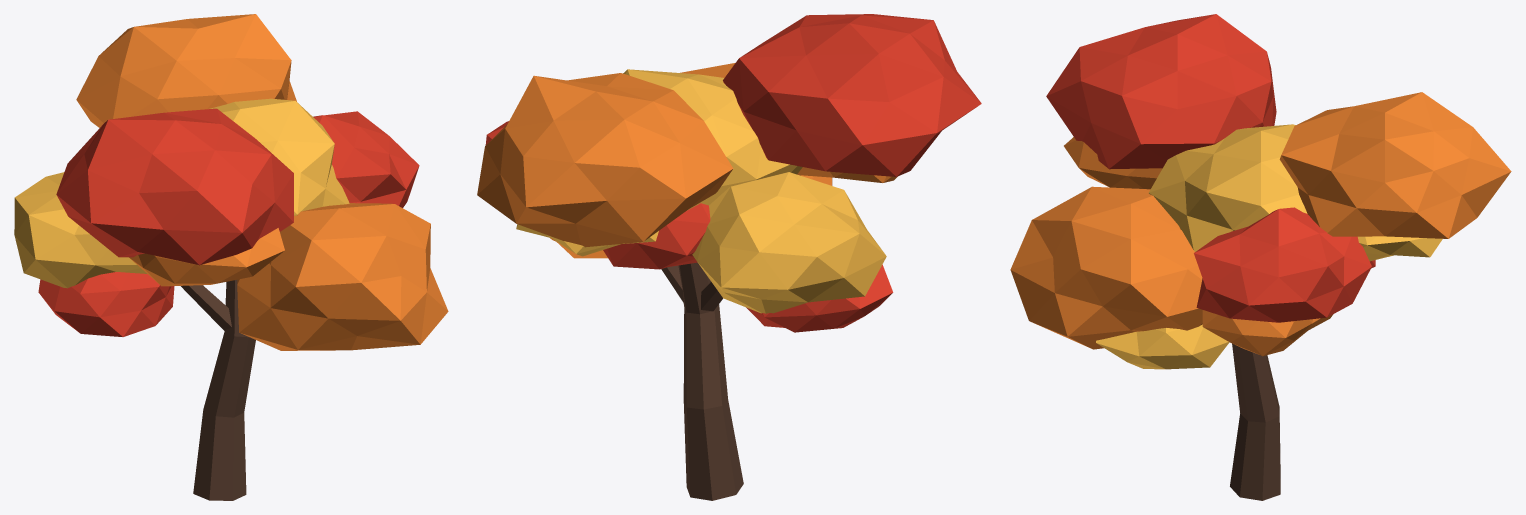
The model's file is maple_b.fbx.
3 views of the same model, side by side, from view 1: azimuth 30°, elevation 25°; view 2: azimuth 150°, elevation 25°; view 3: azimuth 270°, elevation 25° (orthographic). The views are drawn at different scales.
Parts seen in each view (by area): view 1: B_Maple_Orange, B_Maple_Red, B_Maple_Gold, B_Maple_Bark; view 2: B_Maple_Red, B_Maple_Orange, B_Maple_Gold, B_Maple_Bark; view 3: B_Maple_Orange, B_Maple_Red, B_Maple_Gold, B_Maple_Bark.
Boxes of the visible parts, x1=… form: B_Maple_Orange: x1=76, y1=14, x2=448, y2=350; B_Maple_Red: x1=38, y1=108, x2=419, y2=336; B_Maple_Gold: x1=14, y1=98, x2=349, y2=288; B_Maple_Bark: x1=181, y1=280, x2=255, y2=500; B_Maple_Red: x1=485, y1=14, x2=981, y2=332; B_Maple_Orange: x1=477, y1=63, x2=897, y2=258; B_Maple_Gold: x1=516, y1=69, x2=886, y2=313; B_Maple_Bark: x1=661, y1=262, x2=743, y2=500; B_Maple_Orange: x1=1010, y1=92, x2=1511, y2=355; B_Maple_Red: x1=1046, y1=14, x2=1375, y2=322; B_Maple_Gold: x1=1096, y1=124, x2=1442, y2=369; B_Maple_Bark: x1=1230, y1=343, x2=1280, y2=500.
Size of the model in its own units: 10.04 by 10.59 by 11.58.
